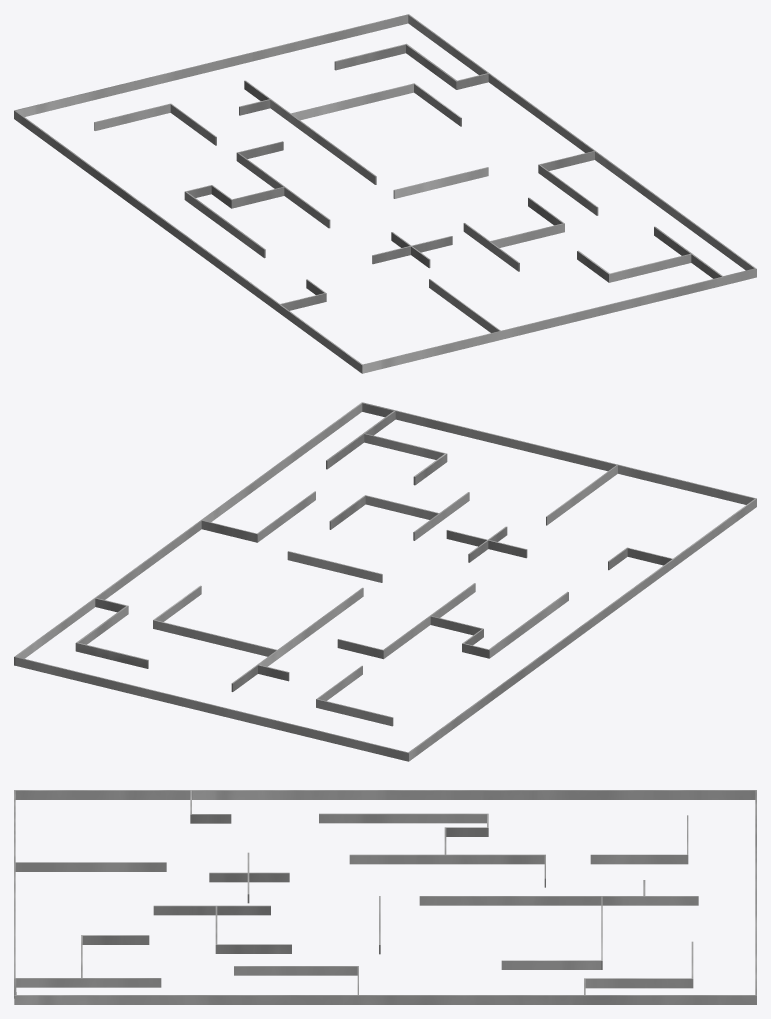
3 renders of one model, top to bottom at view 1: azimuth 30°, elevation 25°; view 2: azimuth 150°, elevation 25°; view 3: azimuth 270°, elevation 25°, orthographic. The views are drawn at different scales.
Visible parts, largest first — view 1: Cube.001; view 2: Cube.001; view 3: Cube.001.
Part boxes in pixels (left/top/right/bottom): Cube.001: left=14, top=14, right=756, bottom=373; Cube.001: left=14, top=402, right=756, bottom=761; Cube.001: left=14, top=790, right=756, bottom=1004.
Size of the model in its own units: 236832 by 4918 by 361646.
Materials: 1 (1 with a texture image).
